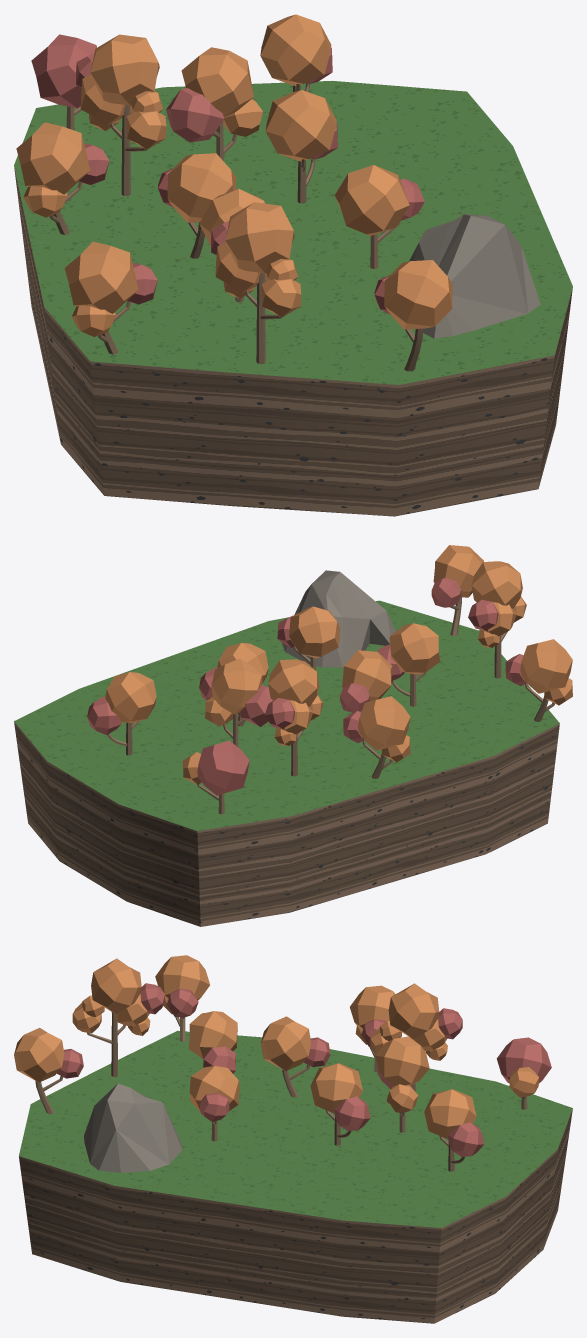
Rendered from RaisedForrest.glb.
3 renders of one model, top to bottom at view 1: azimuth 30°, elevation 25°; view 2: azimuth 150°, elevation 25°; view 3: azimuth 270°, elevation 25°, orthographic. The views are drawn at different scales.
Parts seen in each view (by area): view 1: pCube4396_Erba_01_TileMat_0, pCube4396_Bordo_Zolla_01_Mat_0, pSphere23_Roccia_01_Mat_0, pCylinder474_Albero01_Mat_0, pCylinder731_Albero01_Mat_0, pCylinder460_Albero01_Mat_0, pCylinder730_Albero01_Mat_0, pCylinder464_Albero01_Mat_0, pCylinder729_Albero01_Mat_0, pCylinder466_Albero01_Mat_0, pCylinder473_Albero01_Mat_0, pCylinder463_Albero01_Mat_0 (+8 smaller); view 2: pCube4396_Bordo_Zolla_01_Mat_0, pCube4396_Erba_01_TileMat_0, pSphere23_Roccia_01_Mat_0, pCylinder731_Albero01_Mat_0, pCylinder474_Albero01_Mat_0, pCylinder730_Albero01_Mat_0, pCylinder460_Albero01_Mat_0, pCylinder464_Albero01_Mat_0, pCylinder462_Albero02_Mat1_0, pCylinder463_Albero01_Mat_0, pCylinder475_Albero01_Mat_0, pCylinder466_Albero01_Mat_0 (+9 smaller); view 3: pCube4396_Erba_01_TileMat_0, pCube4396_Bordo_Zolla_01_Mat_0, pSphere23_Roccia_01_Mat_0, pCylinder731_Albero01_Mat_0, pCylinder474_Albero01_Mat_0, pCylinder464_Albero01_Mat_0, pCylinder729_Albero01_Mat_0, pCylinder461_Albero01_Mat_0, pCylinder466_Albero01_Mat_0, pCylinder473_Albero01_Mat_0, pCylinder475_Albero01_Mat_0, pCylinder730_Albero01_Mat_0 (+14 smaller).
Part boxes in pixels (bbox=[...]): pCube4396_Erba_01_TileMat_0: bbox=[14, 80, 572, 384]; pCube4396_Bordo_Zolla_01_Mat_0: bbox=[14, 166, 572, 516]; pSphere23_Roccia_01_Mat_0: bbox=[409, 214, 540, 338]; pCylinder474_Albero01_Mat_0: bbox=[80, 34, 166, 149]; pCylinder731_Albero01_Mat_0: bbox=[215, 202, 301, 317]; pCylinder460_Albero01_Mat_0: bbox=[16, 122, 90, 217]; pCylinder730_Albero01_Mat_0: bbox=[64, 241, 138, 336]; pCylinder464_Albero01_Mat_0: bbox=[181, 47, 262, 136]; pCylinder729_Albero01_Mat_0: bbox=[384, 260, 452, 329]; pCylinder466_Albero01_Mat_0: bbox=[260, 14, 331, 86]; pCylinder473_Albero01_Mat_0: bbox=[265, 90, 336, 161]; pCylinder463_Albero01_Mat_0: bbox=[334, 165, 409, 235]; pCube4396_Bordo_Zolla_01_Mat_0: bbox=[14, 721, 559, 926]; pCube4396_Erba_01_TileMat_0: bbox=[14, 600, 559, 831]; pSphere23_Roccia_01_Mat_0: bbox=[282, 570, 395, 667]; pCylinder731_Albero01_Mat_0: bbox=[471, 561, 526, 647]; pCylinder474_Albero01_Mat_0: bbox=[268, 659, 323, 745]; pCylinder730_Albero01_Mat_0: bbox=[520, 639, 572, 705]; pCylinder460_Albero01_Mat_0: bbox=[358, 696, 410, 762]; pCylinder464_Albero01_Mat_0: bbox=[205, 658, 262, 726]; pCylinder462_Albero02_Mat1_0: bbox=[197, 740, 249, 795]; pCylinder463_Albero01_Mat_0: bbox=[289, 606, 340, 658]; pCylinder475_Albero01_Mat_0: bbox=[389, 623, 440, 674]; pCylinder466_Albero01_Mat_0: bbox=[105, 672, 156, 722]; pCube4396_Erba_01_TileMat_0: bbox=[19, 1030, 572, 1227]; pCube4396_Bordo_Zolla_01_Mat_0: bbox=[19, 1109, 572, 1323]; pSphere23_Roccia_01_Mat_0: bbox=[84, 1083, 182, 1172]; pCylinder731_Albero01_Mat_0: bbox=[72, 958, 150, 1035]; pCylinder474_Albero01_Mat_0: bbox=[370, 983, 447, 1060]; pCylinder464_Albero01_Mat_0: bbox=[375, 1036, 429, 1112]; pCylinder729_Albero01_Mat_0: bbox=[14, 1027, 64, 1082]; pCylinder461_Albero01_Mat_0: bbox=[261, 1016, 311, 1071]; pCylinder466_Albero01_Mat_0: bbox=[424, 1089, 476, 1139]; pCylinder473_Albero01_Mat_0: bbox=[310, 1063, 362, 1113]; pCylinder475_Albero01_Mat_0: bbox=[188, 1011, 237, 1059]; pCylinder730_Albero01_Mat_0: bbox=[155, 955, 209, 1014].
Bounding box in the file's own units: 0.8556 × 0.4199 × 0.9969.
Materials: 6 (2 with a texture image).
